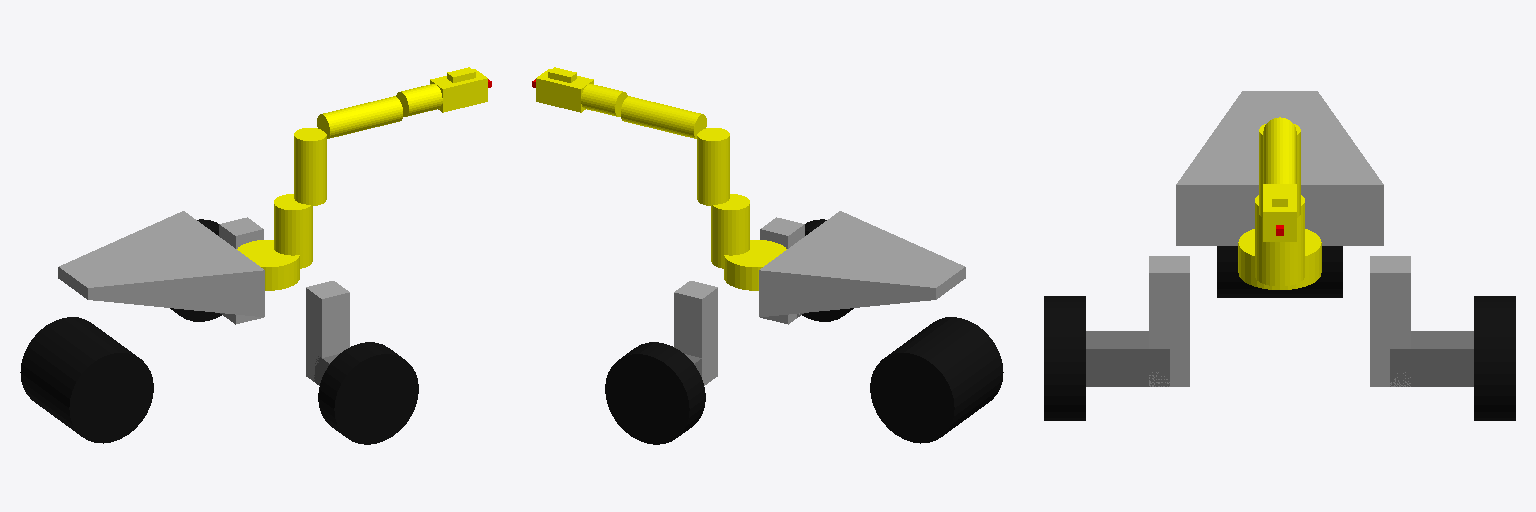
robot.urdf — nano_atrv:
<?xml version="1.0"?>
<robot name="nano_atrv">

    <link name="base_link">
        <visual>
            <origin xyz="-0.2 0 0" rpy="0 0 -1.5708" />
            <geometry>
                <mesh filename="package://nano_atrv_description/meshes/mainbody.stl" scale="0.001 0.001 0.001"/>
            </geometry>
            <material name="silver">
                <color rgba="0.7 0.7 0.7 1.0"/>
            </material>
        </visual>
    </link>

    <link name="base_link_arm"/>
    <link name="base_footprint"/>
    <link name="laser"/>
    <link name="camera_link"/>

    <link name="left_top_block">
        <visual>
            <origin xyz="0 -0.05 0" rpy="0 0 0"/>
            <geometry>
                <box size="0.05 0.05 0.15"/>
            </geometry>
            <material name="silver"/>
        </visual>
    </link>

    <link name="right_top_block">
        <visual>
            <origin xyz="0 0.05 0" rpy="0 0 0"/>
            <geometry>
                <box size="0.05 0.05 0.15"/>
            </geometry>
            <material name="silver"/>
        </visual>
    </link>

    <link name="left_wheel_block">
        <visual>
            <origin xyz="0 -0.05 0" rpy="0 0 0"/>
            <geometry>
                <box size="0.05 0.1 0.05"/>
            </geometry>
            <material name="grey">
                <color rgba="0.5 0.5 0.5 1.0"/>
            </material>
        </visual>
    </link>

    <link name="right_wheel_block">
        <visual>
            <origin xyz="0 0.05 0" rpy="0 0 0"/>
            <geometry>
                <box size="0.05 0.1 0.05"/>
            </geometry>
            <material name="grey">
                <color rgba="0.5 0.5 0.5 1.0"/>
            </material>
        </visual>
    </link>

    <link name="left_wheel">
        <visual>
            <origin xyz="0 0 0" rpy="0 1.5708 0" />
            <geometry>
                <cylinder radius="0.075" length="0.05" />
            </geometry>
            <material name="black">
                <color rgba="0.1 0.1 0.1 1.0"/>
            </material>
        </visual>
    </link>

    <link name="right_wheel">
        <visual>
            <origin xyz="0 0 0" rpy="0 1.5708 0" />
            <geometry>
                <cylinder radius="0.075" length="0.05" />
            </geometry>
            <material name="black">
                <color rgba="0.1 0.1 0.1 1.0"/>
            </material>
        </visual>
    </link>

    <link name="rear_wheel">
        <visual>
            <origin xyz="0 0 0" rpy="0 1.5708 0" />
            <geometry>
                <cylinder radius="0.075" length="0.15" />
            </geometry>
            <material name="black">
                <color rgba="0.1 0.1 0.1 1.0"/>
            </material>
        </visual>
    </link>

    <link name="right_wheel_link"/>
    <link name="left_wheel_link"/>
    
    <link name="rear_wheel_link">
        <visual>
            <origin xyz="0.0 0.2 0.8" rpy="0 -1.5708 0" />
            <geometry>
                <mesh filename="file:///home/tim/Desktop/Nano/nano_atrv/nano_atrv_description/meshes/wheel_rear_yoke.stl" scale="0.001 0.001 0.001"/>
            </geometry>
            <material name="dark_grey">
                <color rgba="0.3 0.3 0.3 1.0"/>
            </material>
        </visual>
    </link>

    <link name="left_steer_link"/>
    <link name="right_steer_link"/>
    <link name="rear_steer_link"/>

    <link name="arm_base_link">
        <gazebo>
            <material>Gazebo/Grey</material>
        </gazebo>
    </link>

    <material name="brightyellow">
        <color rgba="1.0 0.992 0.004 1.0" />
    </material>
    <material name="red">
        <color rgba="1.0 0.0 0.0 1"/>
    </material>

    <link name="arm_Base">
        <inertial>
            <origin xyz="-2.45960666746703E-07 0.0311418169687909 0.0175746661003382" rpy="0 0 0" />
            <mass value="0.193184127927598" />
            <inertia ixx="0.000137" ixy="0.0" ixz="0.0" iyy="0.000169" iyz="0.0" izz="0.000145" />
        </inertial>
        <visual>
            <origin xyz="0 0 0.02" rpy="0 0 0" />
            <geometry>
                <cylinder radius="0.05" length="0.04" />
            </geometry>
            <material name="brightyellow"/>
        </visual>
        <collision>
            <origin xyz="0 0 0.02" rpy="0 0 0" />
            <geometry>
                <cylinder radius="0.05" length="0.04" />
            </geometry>
        </collision>
    </link>

    <link name="arm_Shoulder_Rotation_Pitch">
        <inertial>
            <origin xyz="-9.07886224712597E-05 0.0590971820568318 0.031089016892169" rpy="0 0 0" />
            <mass value="0.119226314127197" />
            <inertia ixx="5.9E-05" ixy="0.0" ixz="0.0" iyy="3.2E-05" iyz="0.0" izz="5.8E-05" />
        </inertial>
        <visual>
            <origin xyz="0 0.05 0" rpy="1.5708 0 0" />
            <geometry>
                <cylinder radius="0.03" length="0.1" />
            </geometry>
            <material name="brightyellow"/>
        </visual>
        <collision>
            <origin xyz="0 0.05 0" rpy="1.5708 0 0" />
            <geometry>
                <cylinder radius="0.03" length="0.1" />
            </geometry>
        </collision>
    </link>

    <link name="arm_Upper_Arm">
        <inertial>
            <origin xyz="-1.7205170190925E-05 0.0701802156327694 0.00310545118155671" rpy="0 0 0" />
            <mass value="0.162409284599177" />
            <inertia ixx="0.000167" ixy="0.0" ixz="0.0" iyy="7.0E-05" iyz="0.0" izz="0.000213" />
        </inertial>
        <visual>
            <origin xyz="0 0.05 0" rpy="1.5708 0 0" />
            <geometry>
                <cylinder radius="0.025" length="0.11" />
            </geometry>
            <material name="brightyellow"/>
        </visual>
        <collision>
            <origin xyz="0 0.05 0" rpy="1.5708 0 0" />
            <geometry>
                <cylinder radius="0.025" length="0.11" />
            </geometry>
        </collision>
    </link>

    <link name="arm_Lower_Arm">
        <inertial>
            <origin xyz="-0.00339603710186651 0.00137796353960074 0.0768006751156044" rpy="0 0 0" />
            <mass value="0.147967774582291" />
            <inertia ixx="0.000105" ixy="0.0" ixz="0.0" iyy="0.000138" iyz="0.0" izz="5.0E-05" />
        </inertial>
        <visual>
            <origin xyz="0 0 0.06" rpy="0 0 0" />
            <geometry>
                <cylinder radius="0.02" length="0.13" />
            </geometry>
            <material name="brightyellow"/>
        </visual>
        <collision>
            <origin xyz="0 0 0.06" rpy="0 0 0" />
            <geometry>
                <cylinder radius="0.02" length="0.13" />
            </geometry>
        </collision>
    </link>

    <link name="arm_Wrist_Pitch_Roll">
        <inertial>
            <origin xyz="-0.00852653127372418 -0.0352278997897927 -2.34622481569413E-05" rpy="0 0 0" />
            <mass value="0.066132067097723" />
            <inertia ixx="1.9E-05" ixy="0.0" ixz="0.0" iyy="2.3E-05" iyz="0.0" izz="3.4E-05" />
        </inertial>
        <visual>
            <origin xyz="0 -0.03 0" rpy="1.5708 0 0" />
            <geometry>
                <cylinder radius="0.02" length="0.06" />
            </geometry>
            <material name="brightyellow"/>
        </visual>
        <collision>
            <origin xyz="0 -0.03 0" rpy="1.5708 0 0" />
            <geometry>
                <cylinder radius="0.02" length="0.06" />
            </geometry>
        </collision>
    </link>

    <link name="arm_Fixed_Gripper">
        <inertial>
            <origin xyz="0.00552376906426563 -0.0280167153359021 0.000483582592841092" rpy="0 0 0" />
            <mass value="0.0929859131176897" />
            <inertia ixx="4.3E-05" ixy="0.0" ixz="0.0" iyy="3.0E-05" iyz="0.0" izz="5.0E-05" />
        </inertial>
        <visual>
            <origin xyz="0 -0.04 0" rpy="0 0 0" />
            <geometry>
                <box size="0.04 0.08 0.04" />
            </geometry>
            <material name="brightyellow"/>
        </visual>
        <collision>
            <origin xyz="0 -0.04 0" rpy="0 0 0" />
            <geometry>
                <box size="0.04 0.08 0.04" />
            </geometry>
        </collision>
    </link>

    <link name="arm_Moving_Jaw">
        <inertial>
            <origin xyz="-0.00161744605468241 -0.0303472584046471 0.000449645961853651" rpy="0 0 0" />
            <mass value="0.0202443794940372" />
            <inertia ixx="1.1E-05" ixy="0.0" ixz="0.0" iyy="3.0E-06" iyz="0.0" izz="8.9E-06" />
        </inertial>
        <visual>
            <origin xyz="0 -0.02 0" rpy="0 0 0" />
            <geometry>
                <box size="0.02 0.04 0.02" />
            </geometry>
            <material name="brightyellow"/>
        </visual>
        <collision>
            <origin xyz="0 -0.02 0" rpy="0 0 0" />
            <geometry>
                <box size="0.02 0.04 0.02" />
            </geometry>
        </collision>
    </link>

    <link name="arm_End_Effector">
        <visual>
            <origin xyz="0 0 0" rpy="0 0 0"/>
            <geometry>
                <box size="0.01 0.01 0.01" />
            </geometry>
            <material name="red"/>
        </visual>
    </link>

    <joint name="base_footprint_to_base_link" type="fixed">
        <parent link="base_footprint"/>
        <child link="base_link"/>
        <origin xyz="0 0 0.18" rpy="0 0 0"/>
    </joint>

    <joint name="base_link_to_laser" type="fixed">
        <parent link="base_link"/>
        <child link="laser"/>
        <origin xyz="0 0 0.23" rpy="0 3.1415 0"/>
    </joint>

    <joint name="base_link_to_camera_link" type="fixed">
        <parent link="base_link"/>
        <child link="camera_link"/>
        <origin xyz="0.08 0.05 0.285" rpy="0 0.8029 0"/>
    </joint>

    <joint name="base_link_to_arm" type="fixed">
        <parent link="base_link"/>
        <child link="base_link_arm"/>
        <origin xyz="0.145 0 0" rpy="0 0 1.5708"/>
    </joint>

    <joint name="base_link_arm_to_arm_base" type="fixed">
        <parent link="base_link_arm"/>
        <child link="arm_base_link"/>
        <origin xyz="0 0 0" rpy="0 0 0"/>
    </joint>

    <joint name="base_link_to_left_steer" type="fixed">
        <parent link="base_link"/>
        <child link="left_steer_link"/>
        <origin xyz="0.175 0.1775 -0.1" rpy="0 0 0"/>
    </joint>

    <joint name="base_link_to_right_steer" type="fixed">
        <parent link="base_link"/>
        <child link="right_steer_link"/>
        <origin xyz="0.175 -0.1775 -0.1" rpy="0 0 0"/>
    </joint>

    <joint name="base_link_to_rear_steer" type="fixed">
        <parent link="base_link"/>
        <child link="rear_steer_link"/>
        <origin xyz="-0.175 0 -0.1" rpy="0 0 0"/>
    </joint>

    <joint name="base_link_to_left_top_block" type="fixed">
        <parent link="base_link"/>
        <child link="left_top_block"/>
        <origin xyz="0.175 0.1825 -0.05" rpy="0 0 0"/>
    </joint>

    <joint name="base_link_to_right_top_block" type="fixed">
        <parent link="base_link"/>
        <child link="right_top_block"/>
        <origin xyz="0.175 -0.1825 -0.05" rpy="0 0 0"/>
    </joint>

    <joint name="left_steer_joint" type="revolute">
        <parent link="left_steer_link"/>
        <child link="left_wheel_link"/>
        <origin xyz="0 0 0" rpy="0 0 0"/>
        <axis xyz="0 0 1"/>
        <limit lower="-1.57" upper="1.57" effort="10" velocity="2"/>
    </joint>

    <joint name="right_steer_joint" type="revolute">
        <parent link="right_steer_link"/>
        <child link="right_wheel_link"/>
        <origin xyz="0 0 0" rpy="0 0 0"/>
        <axis xyz="0 0 1"/>
        <limit lower="-1.57" upper="1.57" effort="10" velocity="2"/>
    </joint>

    <joint name="rear_steer_joint" type="revolute">
        <parent link="rear_steer_link"/>
        <child link="rear_wheel_link"/>
        <origin xyz="0 0 0" rpy="0 0 0"/>
        <axis xyz="0 0 1"/>
        <limit lower="-3.1415" upper="3.1415" effort="10" velocity="2"/>
    </joint>

    <joint name="left_wheel_link_to_block" type="fixed">
        <parent link="left_wheel_link"/>
        <child link="left_wheel_block"/>
        <origin xyz="0 0.055 0" rpy="0 0 0"/>
    </joint>

    <joint name="right_wheel_link_to_block" type="fixed">
        <parent link="right_wheel_link"/>
        <child link="right_wheel_block"/>
        <origin xyz="0 -0.055 0" rpy="0 0 0"/>
    </joint>

    <joint name="left_wheel_joint" type="continuous">
        <parent link="left_wheel_link"/>
        <child link="left_wheel"/>
        <origin xyz="0 0.08 0" rpy="0 0 1.5708"/>
        <axis xyz="-1 0 0"/>
    </joint>

    <joint name="right_wheel_joint" type="continuous">
        <parent link="right_wheel_link"/>
        <child link="right_wheel"/>
        <origin xyz="0 -0.08 0" rpy="0 0 -1.5708"/>
        <axis xyz="1 0 0"/>
    </joint>

    <joint name="rear_wheel_joint" type="continuous">
        <parent link="rear_wheel_link"/>
        <child link="rear_wheel"/>
        <origin xyz="0 0 0" rpy="0 0 1.5708"/>
        <axis xyz="-1 0 0"/>
    </joint>

    <joint name="arm_base_link_joint" type="fixed">
        <parent link="arm_base_link"/>
        <child link="arm_Base"/>
        <origin xyz="0 0 0" rpy="0 0 0"/>
    </joint>

    <joint name="arm_Shoulder_Rotation" type="revolute">
        <origin xyz="0 -0.0452 0.0165" rpy="1.5708 0 0" />
        <parent link="arm_Base" />
        <child link="arm_Shoulder_Rotation_Pitch" />
        <axis xyz="0 -1 0" />
        <limit effort="1000" lower="-1.96" upper="1.96" velocity="5.0"/>
        <dynamics damping="0.1"/>
    </joint>

    <joint name="arm_Shoulder_Pitch" type="revolute">
        <origin xyz="0 0.1025 0.0306" rpy="0 0 0" />
        <parent link="arm_Shoulder_Rotation_Pitch" />
        <child link="arm_Upper_Arm" />
        <axis xyz="1 0 0" />
        <limit effort="1000" lower="-1.745" upper="1.745" velocity="5.0"/>
        <dynamics damping="0.1"/>
    </joint>

    <joint name="arm_Elbow" type="revolute">
        <origin xyz="0 0.11257 0.028" rpy="0 0 0" />
        <parent link="arm_Upper_Arm" />
        <child link="arm_Lower_Arm" />
        <axis xyz="1 0 0" />
        <limit effort="1000" lower="-1.5" upper="1.5" velocity="5.0"/>
        <dynamics damping="0.1"/>
    </joint>

    <joint name="arm_Wrist_Pitch" type="revolute">
        <origin xyz="0 0.0052 0.1349" rpy="-1.57079 0 0" />
        <parent link="arm_Lower_Arm" />
        <child link="arm_Wrist_Pitch_Roll" />
        <axis xyz="1 0 0" />
        <limit effort="1000" lower="-1.658" upper="1.658" velocity="5.0"/>
        <dynamics damping="0.1"/>
    </joint>

    <joint name="arm_Wrist_Roll" type="revolute">
        <origin xyz="0 -0.0601 0" rpy="0 1.57079 0" />
        <parent link="arm_Wrist_Pitch_Roll" />
        <child link="arm_Fixed_Gripper" />
        <axis xyz="0 1 0" />
        <limit effort="1000" lower="-2.75" upper="2.75" velocity="5.0"/>
        <dynamics damping="0.1"/>
    </joint>

    <joint name="arm_Gripper" type="revolute">
        <origin xyz="-0.0202 -0.0244 0" rpy="3.1416 0 3.1416" />
        <parent link="arm_Fixed_Gripper" />
        <child link="arm_Moving_Jaw" />
        <axis xyz="0 0 1" />
        <limit effort="1000" lower="-0.1792" upper="1.5708" velocity="5.0"/>
        <dynamics damping="0.1"/>
    </joint>

    <joint name="arm_End_Effector_Joint" type="fixed">
        <parent link="arm_Fixed_Gripper"/>
        <child link="arm_End_Effector"/>
        <origin xyz="0.0 -0.09 0.0" rpy="0 0 0"/>
    </joint>

</robot>

--- Render facts (derived) ---
Views: 3 orthographic renders of the robot side by side, from view 1: azimuth 30°, elevation 25°; view 2: azimuth 150°, elevation 25°; view 3: azimuth 270°, elevation 25°.
Robot: nano_atrv — 27 links, 26 joints (9 revolute, 3 continuous, 14 fixed); root link base_footprint; default pose: all joints at 0.
Visible links, largest first — view 1: base_link, rear_wheel, right_wheel, right_top_block, arm_Upper_Arm, arm_Shoulder_Rotation_Pitch, arm_Lower_Arm, arm_Base, arm_Fixed_Gripper, left_top_block, arm_Wrist_Pitch_Roll, left_wheel; view 2: base_link, rear_wheel, left_wheel, left_top_block, arm_Upper_Arm, arm_Shoulder_Rotation_Pitch, arm_Lower_Arm, arm_Base, arm_Fixed_Gripper, right_top_block, arm_Wrist_Pitch_Roll, right_wheel; view 3: base_link, left_wheel, right_wheel, right_top_block, left_top_block, left_wheel_block, right_wheel_block, rear_wheel, arm_Shoulder_Rotation_Pitch, arm_Base, arm_Lower_Arm, arm_Fixed_Gripper (+2 smaller).
Boxes of the visible links, bbox=[...] form: base_link: bbox=[58, 211, 264, 316]; rear_wheel: bbox=[20, 317, 153, 443]; right_wheel: bbox=[318, 342, 418, 444]; right_top_block: bbox=[306, 281, 349, 381]; arm_Upper_Arm: bbox=[294, 128, 326, 205]; arm_Shoulder_Rotation_Pitch: bbox=[274, 194, 312, 268]; arm_Lower_Arm: bbox=[317, 96, 402, 138]; arm_Base: bbox=[237, 240, 299, 290]; arm_Fixed_Gripper: bbox=[430, 69, 487, 112]; left_top_block: bbox=[219, 217, 263, 324]; arm_Wrist_Pitch_Roll: bbox=[396, 84, 442, 116]; left_wheel: bbox=[170, 219, 221, 321]; base_link: bbox=[759, 211, 965, 316]; rear_wheel: bbox=[870, 317, 1003, 443]; left_wheel: bbox=[605, 342, 705, 444]; left_top_block: bbox=[674, 281, 717, 385]; arm_Upper_Arm: bbox=[697, 128, 729, 205]; arm_Shoulder_Rotation_Pitch: bbox=[711, 194, 749, 268]; arm_Lower_Arm: bbox=[621, 96, 706, 138]; arm_Base: bbox=[724, 240, 786, 290]; arm_Fixed_Gripper: bbox=[536, 69, 593, 112]; right_top_block: bbox=[760, 217, 804, 324]; arm_Wrist_Pitch_Roll: bbox=[581, 84, 627, 116]; right_wheel: bbox=[802, 219, 853, 321]; base_link: bbox=[1176, 91, 1383, 245]; left_wheel: bbox=[1474, 296, 1515, 420]; right_wheel: bbox=[1044, 296, 1085, 420]; right_top_block: bbox=[1149, 256, 1189, 386]; left_top_block: bbox=[1370, 256, 1410, 386]; left_wheel_block: bbox=[1390, 331, 1473, 386]; right_wheel_block: bbox=[1086, 331, 1169, 386]; rear_wheel: bbox=[1217, 246, 1342, 297]; arm_Shoulder_Rotation_Pitch: bbox=[1255, 195, 1304, 286]; arm_Base: bbox=[1238, 229, 1321, 289]; arm_Lower_Arm: bbox=[1263, 117, 1296, 175]; arm_Fixed_Gripper: bbox=[1263, 184, 1296, 241].
Bounding box of the posed robot: 0.7888 × 0.565 × 0.442 m (x, y, z).
1 mesh visuals loaded from 1 distinct referenced files (1 binary STL); not drawn: 1 (reference in a form the renderer does not follow; not among the files counted above).
